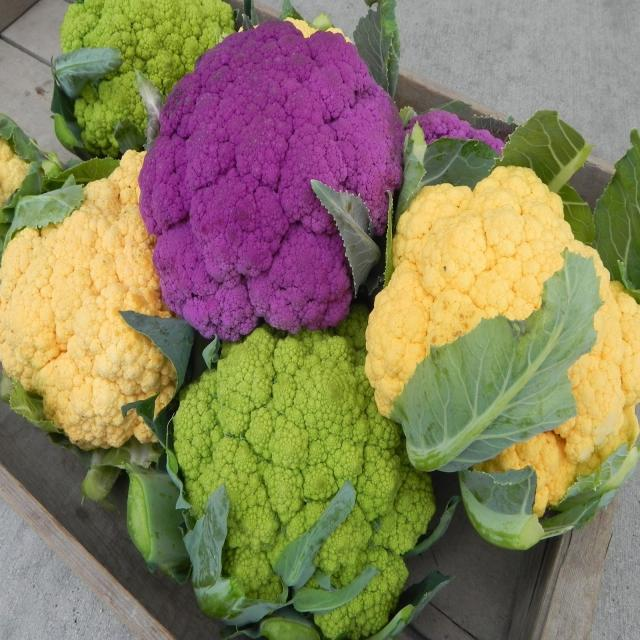cauliflower: (183, 327, 434, 640), (424, 158, 638, 503), (155, 18, 396, 296), (5, 150, 135, 449), (51, 0, 178, 125)
